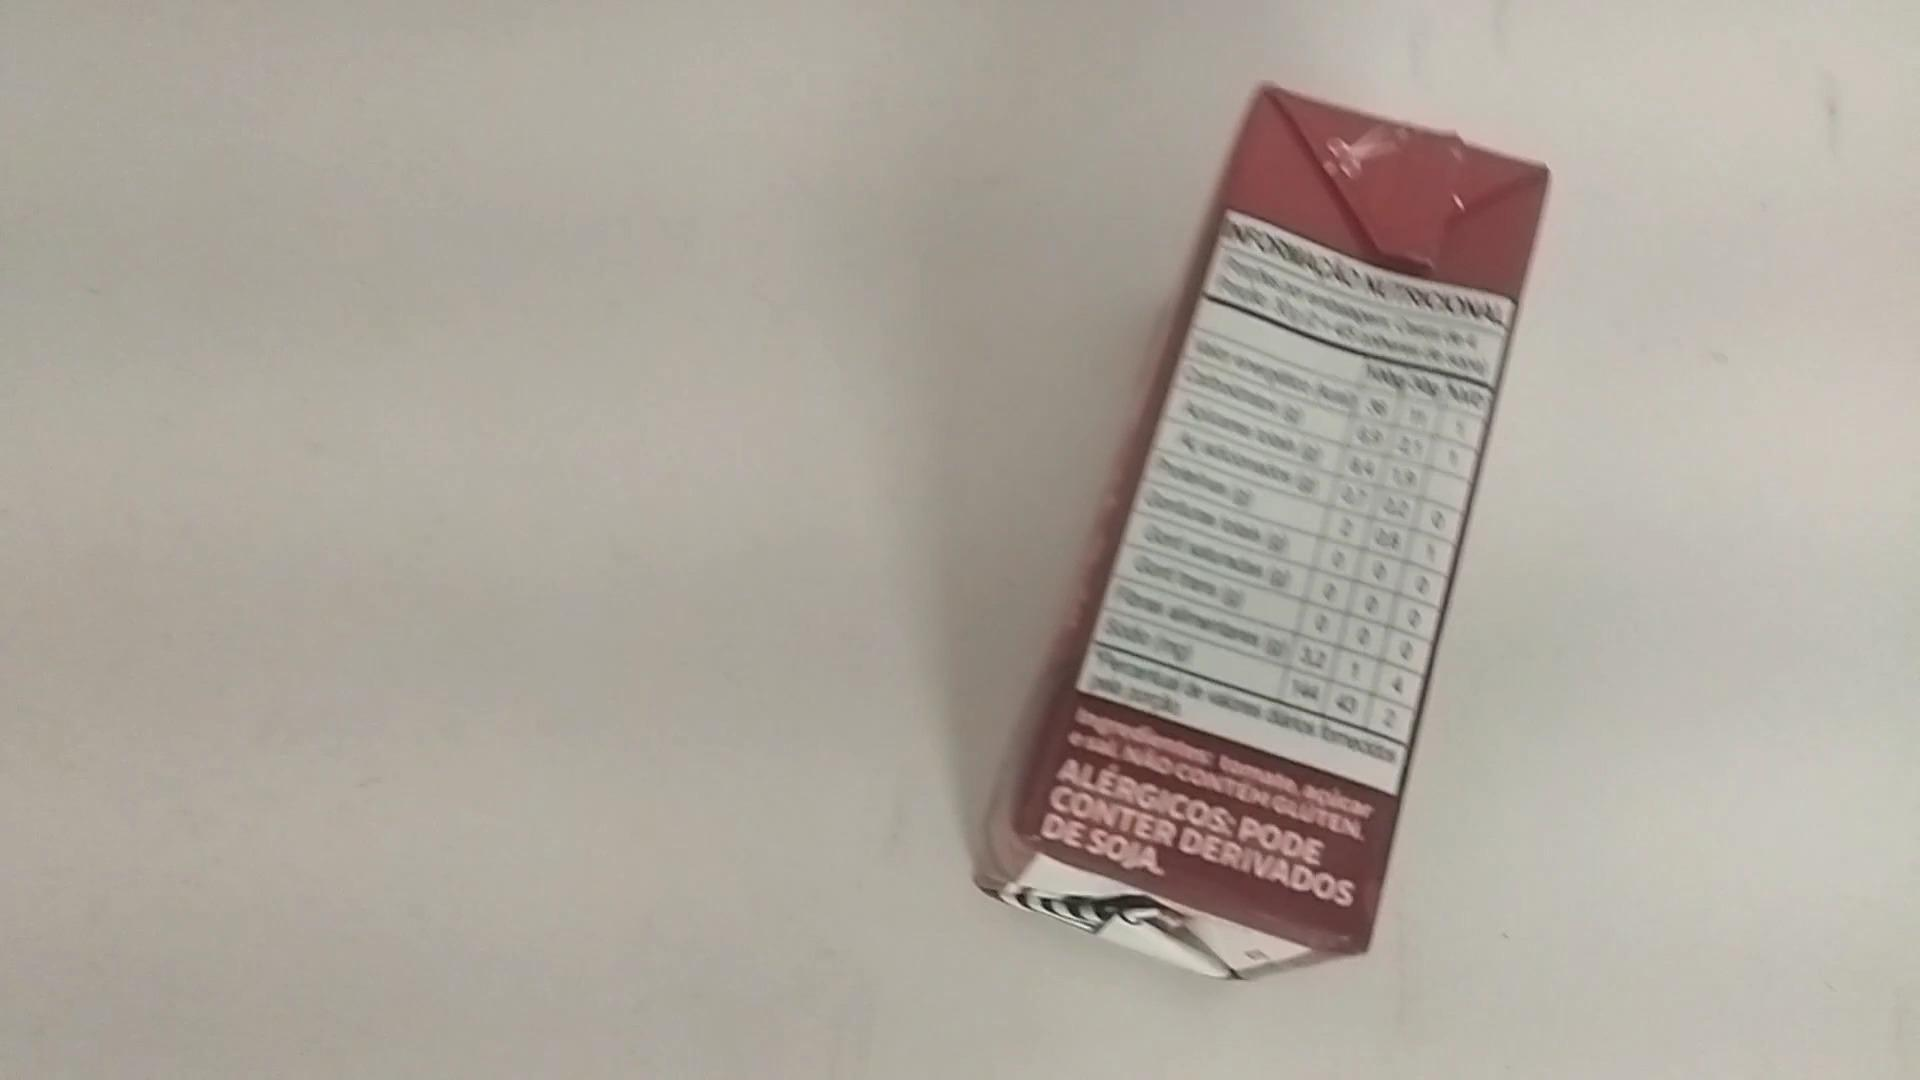tomate: (989, 83, 1569, 1005)
